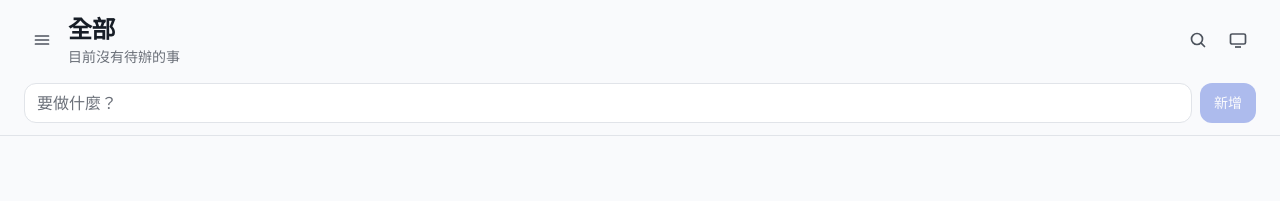
it: AppHeader.vue › searchMode 切換（AppHeader.vue:12-15, 72-76） › 搜尋模式下新增輸入框仍在，另外顯示搜尋輸入框（不再互相取代）
Click the button named "結束搜尋": {"x": 1198, "y": 40} [1180,22,1216,58]
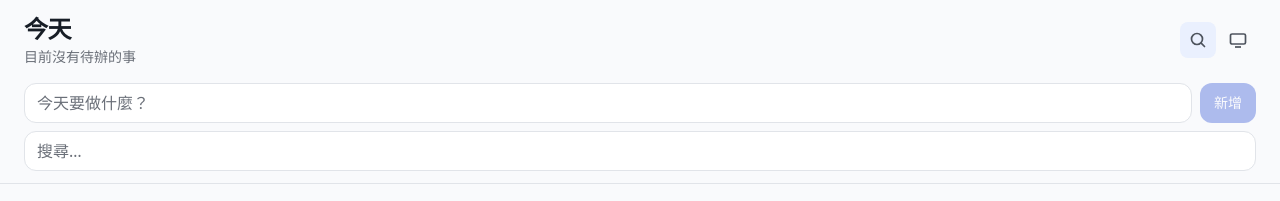
Expected: the field named "新增代辦事項" is shown, [24,83,1192,123]
Expected: the search field named "搜尋代辦事項" is shown, [24,131,1256,171]
